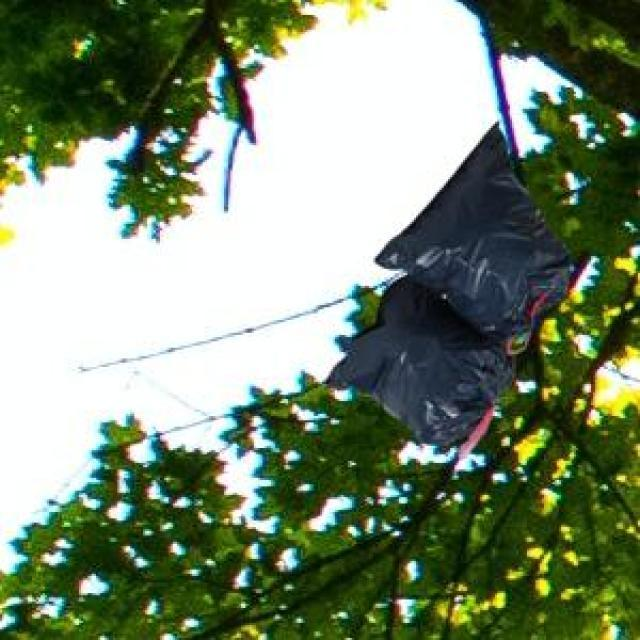waste: (328, 125, 574, 461)
